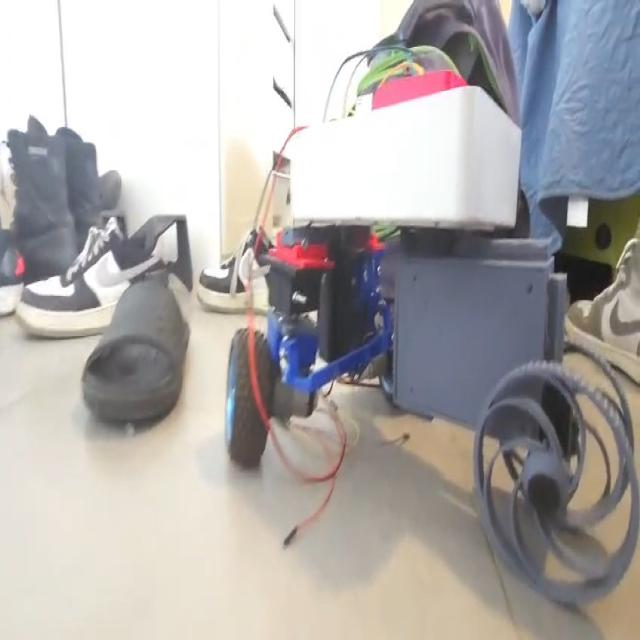Robot: (220, 64, 640, 610)
